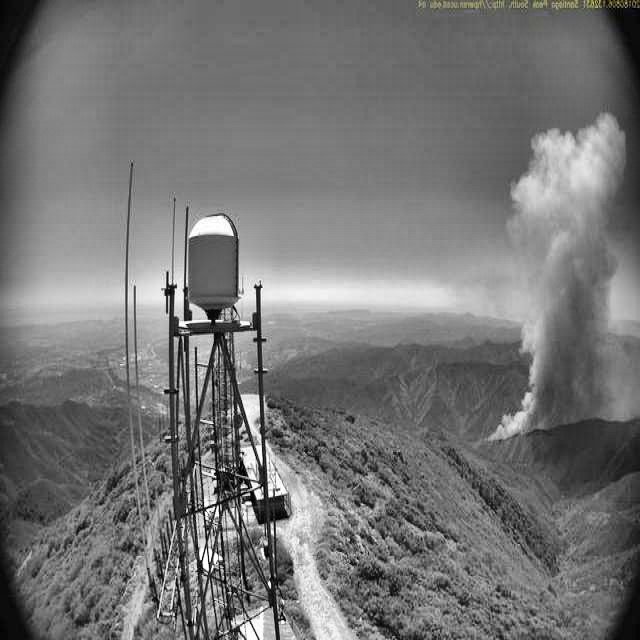smoke: (488, 111, 640, 448)
